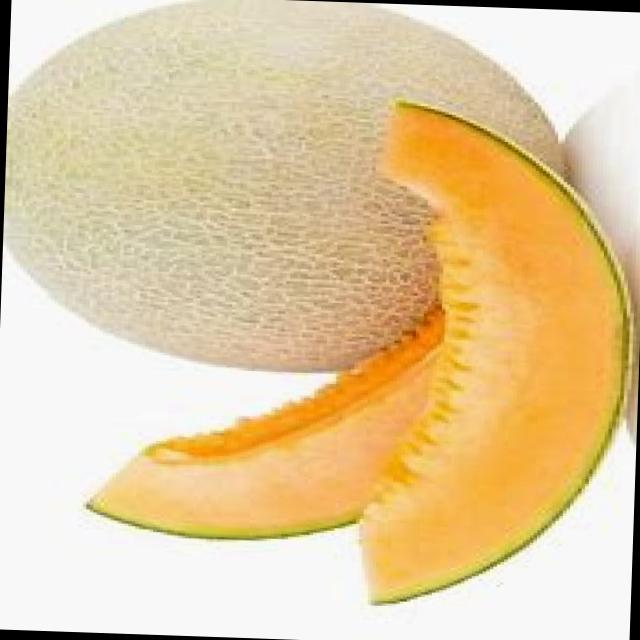cantaloupe: (0, 0, 574, 381), (360, 97, 640, 615)
